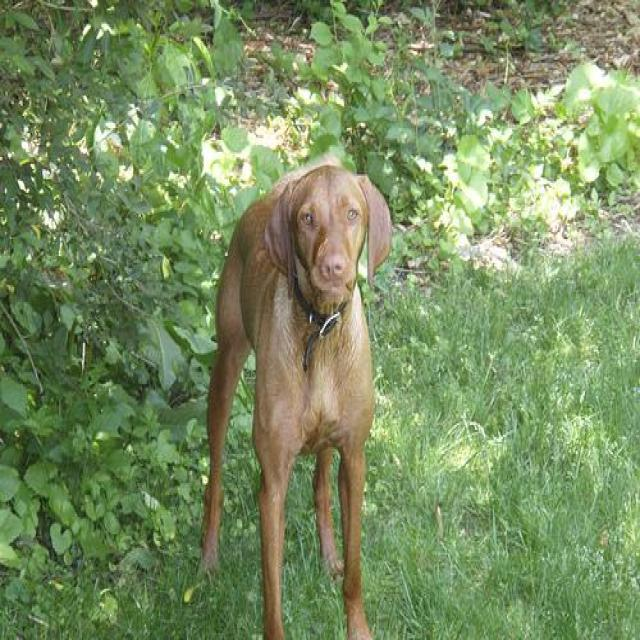vizsla: (193, 159, 393, 638)
